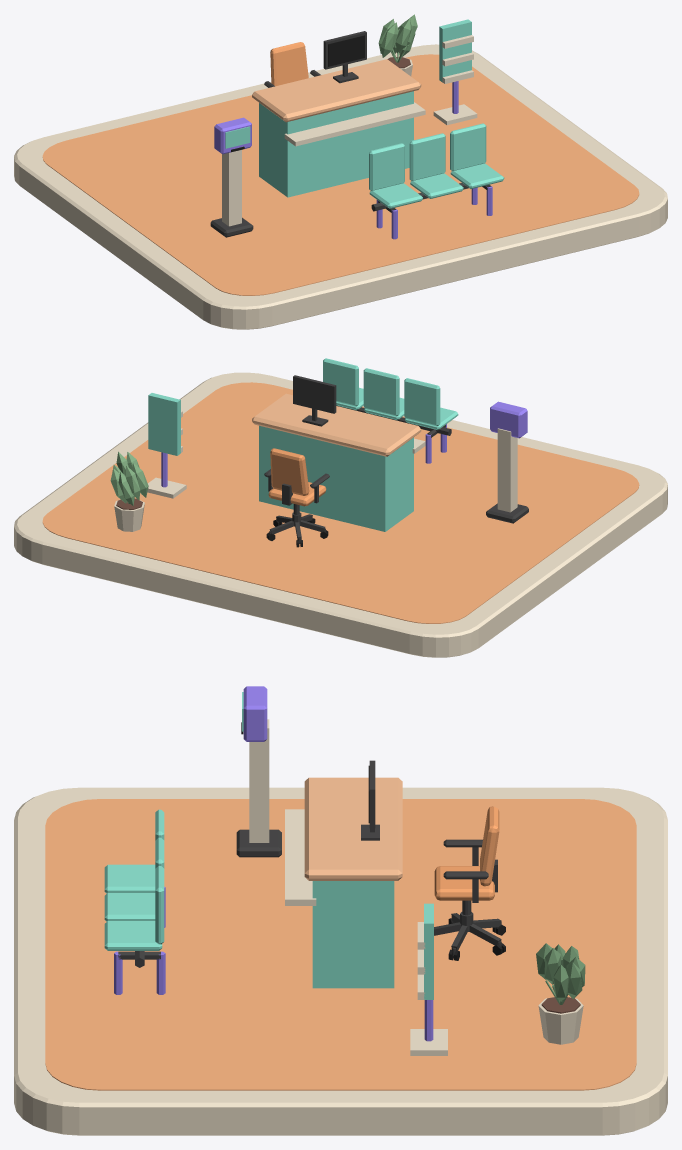
File: room.fbx
3 renders of one model, top to bottom at view 1: azimuth 30°, elevation 25°; view 2: azimuth 150°, elevation 25°; view 3: azimuth 270°, elevation 25°, orthographic. The views are drawn at different scales.
Parts seen in each view (by area): view 1: COM-02 Floor Surface, COM-01 Rounded Base Direct, Counter body, Countertop, Visitor shelf, Frame, Back.001, Back.002, COM-04_Chair_blender_direct, Back, Pedestal, Pot (+7 smaller); view 2: COM-02 Floor Surface, COM-01 Rounded Base Direct, Counter body, Countertop, COM-04_Chair_blender_direct, Pot, Pedestal, Frame, Back.001, Back, Back.002, Display housing (+5 smaller); view 3: COM-02 Floor Surface, COM-01 Rounded Base Direct, Countertop, Counter body, COM-04_Chair_blender_direct, Pot, Pedestal, Visitor shelf, Seat.002, Seat, Seat.001, Display housing (+4 smaller).
Part boxes in pixels (x1=…): COM-02 Floor Surface: x1=42, y1=54, x2=639, y2=295; COM-01 Rounded Base Direct: x1=14, y1=44, x2=667, y2=329; Counter body: x1=259, y1=91, x2=413, y2=197; Countertop: x1=252, y1=59, x2=421, y2=122; Visitor shelf: x1=284, y1=102, x2=425, y2=146; Frame: x1=323, y1=31, x2=366, y2=83; Back.001: x1=409, y1=133, x2=445, y2=180; Back.002: x1=450, y1=123, x2=486, y2=170; COM-04_Chair_blender_direct: x1=264, y1=42, x2=320, y2=87; Back: x1=369, y1=143, x2=404, y2=190; Pedestal: x1=222, y1=150, x2=241, y2=226; Pot: x1=378, y1=14, x2=417, y2=76; COM-02 Floor Surface: x1=42, y1=382, x2=639, y2=623; COM-01 Rounded Base Direct: x1=14, y1=372, x2=667, y2=657; Counter body: x1=259, y1=425, x2=413, y2=531; Countertop: x1=252, y1=393, x2=421, y2=456; COM-04_Chair_blender_direct: x1=264, y1=448, x2=329, y2=547; Pot: x1=110, y1=451, x2=148, y2=531; Pedestal: x1=497, y1=428, x2=517, y2=512; Frame: x1=293, y1=375, x2=336, y2=426; Back.001: x1=363, y1=368, x2=399, y2=416; Back: x1=404, y1=378, x2=440, y2=426; Back.002: x1=323, y1=358, x2=358, y2=406; Display housing: x1=490, y1=401, x2=527, y2=438; COM-02 Floor Surface: x1=45, y1=799, x2=636, y2=1090; COM-01 Rounded Base Direct: x1=14, y1=787, x2=667, y2=1135; Countertop: x1=304, y1=777, x2=402, y2=880; Counter body: x1=312, y1=881, x2=394, y2=988; COM-04_Chair_blender_direct: x1=434, y1=806, x2=505, y2=960; Pot: x1=536, y1=943, x2=585, y2=1044; Pedestal: x1=249, y1=719, x2=269, y2=842; Visitor shelf: x1=285, y1=809, x2=316, y2=905; Seat.002: x1=104, y1=921, x2=162, y2=950; Seat: x1=104, y1=864, x2=155, y2=893; Seat.001: x1=104, y1=893, x2=155, y2=921; Display housing: x1=243, y1=686, x2=267, y2=741.
Size of the model in its own units: 600 by 187 by 520.
